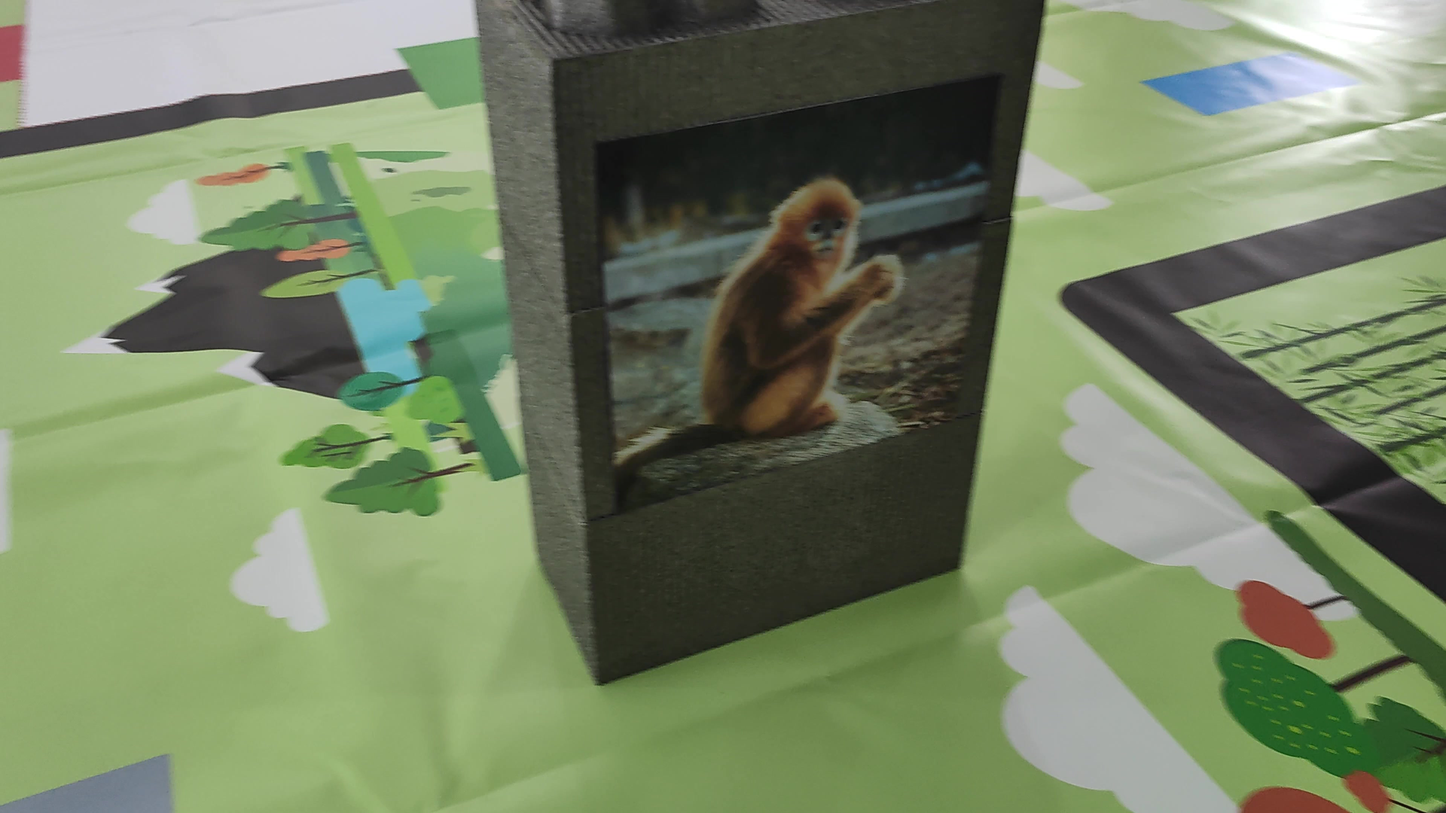monkey: (679, 176, 937, 429)
